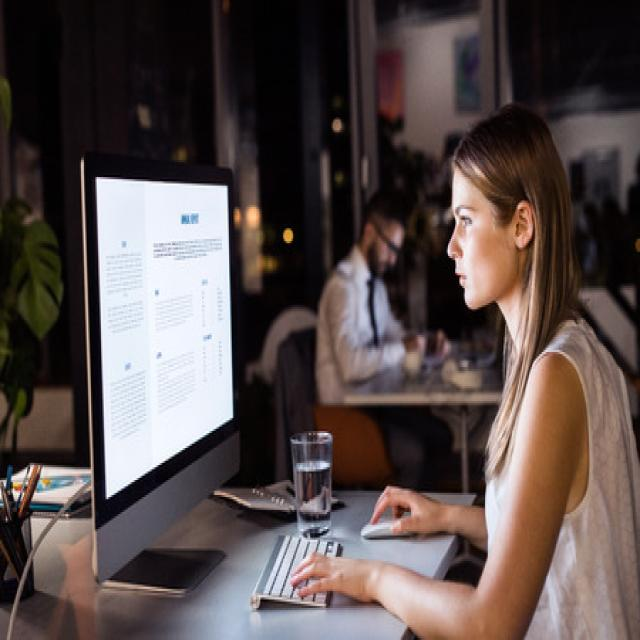desktop-person: (68, 92, 640, 640)
